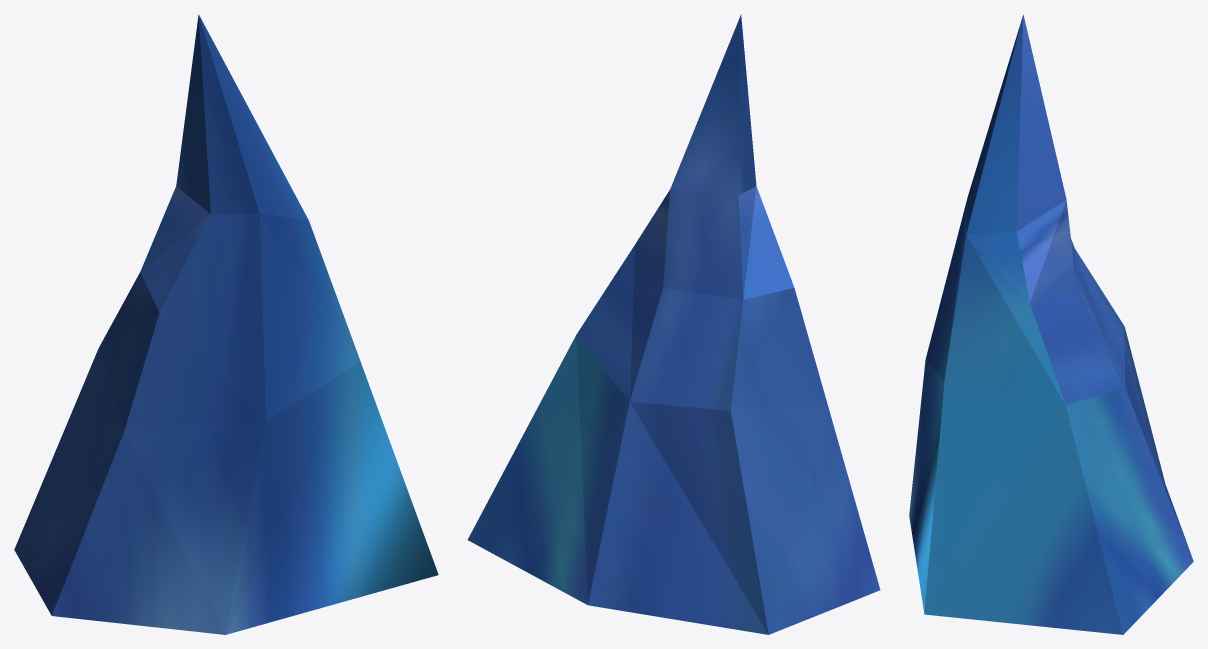
File: jianci.FBX
3 renders of one model, left to right at view 1: azimuth 30°, elevation 25°; view 2: azimuth 150°, elevation 25°; view 3: azimuth 270°, elevation 25°, orthographic. The views are drawn at different scales.
Parts seen in each view (by area): view 1: Object033; view 2: Object033; view 3: Object033.
Boxes of the visible parts, box(x1,y1,x2,y2) form: Object033: box(14, 14, 438, 634); Object033: box(467, 14, 880, 634); Object033: box(909, 14, 1193, 634).
Bounding box in the file's own units: 42.47 × 60.86 × 30.32.
